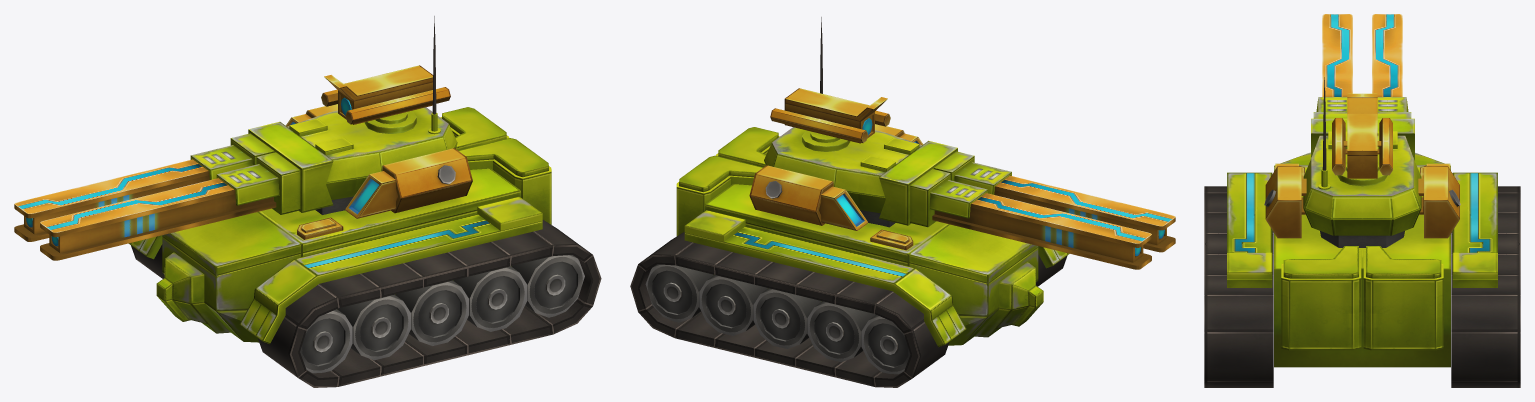
File: tank2_level5.FBX
3 views of the same model, side by side, from view 1: azimuth 30°, elevation 25°; view 2: azimuth 150°, elevation 25°; view 3: azimuth 270°, elevation 25° (orthographic). The views are drawn at different scales.
Parts seen in each view (by area): view 1: tank2_level5, tank2_level5_weapon, tank2_level5_weapon2; view 2: tank2_level5, tank2_level5_weapon, tank2_level5_weapon2; view 3: tank2_level5, tank2_level5_weapon, tank2_level5_weapon2.
Part boxes in pixels (x1,y1,x2,y2): tank2_level5: [128, 107, 601, 387]; tank2_level5_weapon: [230, 16, 472, 218]; tank2_level5_weapon2: [14, 145, 279, 260]; tank2_level5: [630, 127, 1069, 387]; tank2_level5_weapon: [749, 17, 974, 230]; tank2_level5_weapon2: [929, 162, 1175, 269]; tank2_level5: [1204, 152, 1520, 387]; tank2_level5_weapon: [1264, 77, 1460, 247]; tank2_level5_weapon2: [1316, 14, 1408, 111].
Bounding box in the file's own units: 65.65 × 37.29 × 37.98.
